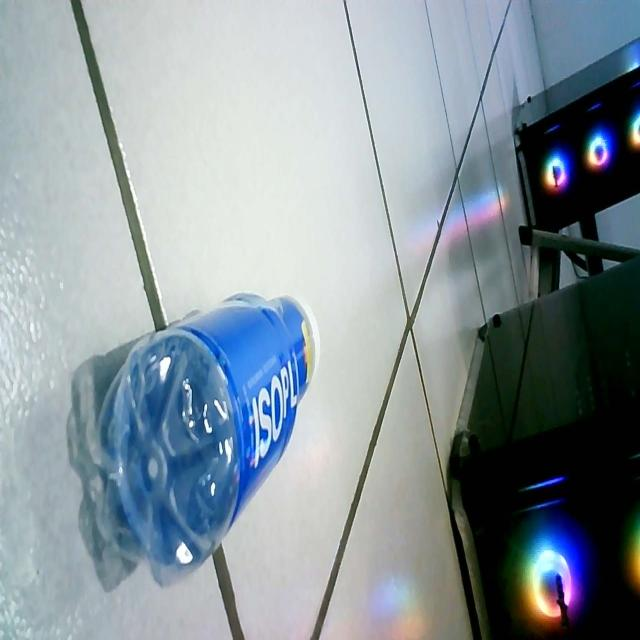botol: (106, 247, 343, 588)
